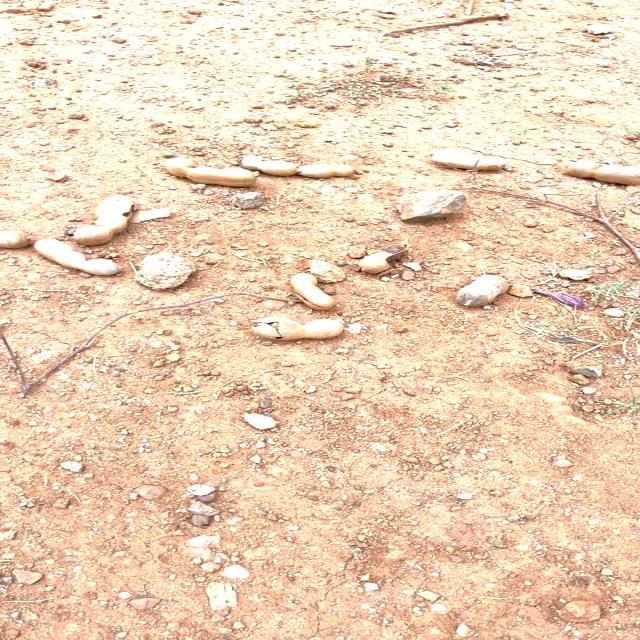tamarind: (30, 238, 125, 274), (153, 158, 269, 186), (76, 193, 137, 246), (242, 156, 362, 178), (430, 144, 510, 174), (246, 318, 351, 340), (559, 155, 640, 183), (456, 274, 511, 311), (289, 271, 337, 311)
